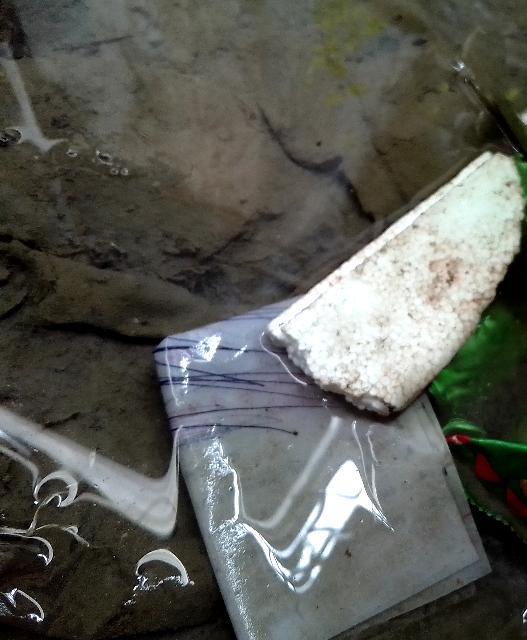cocksheet: (254, 111, 527, 448)
